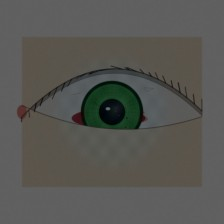hemorrhage_spot: (58, 78, 159, 159)
